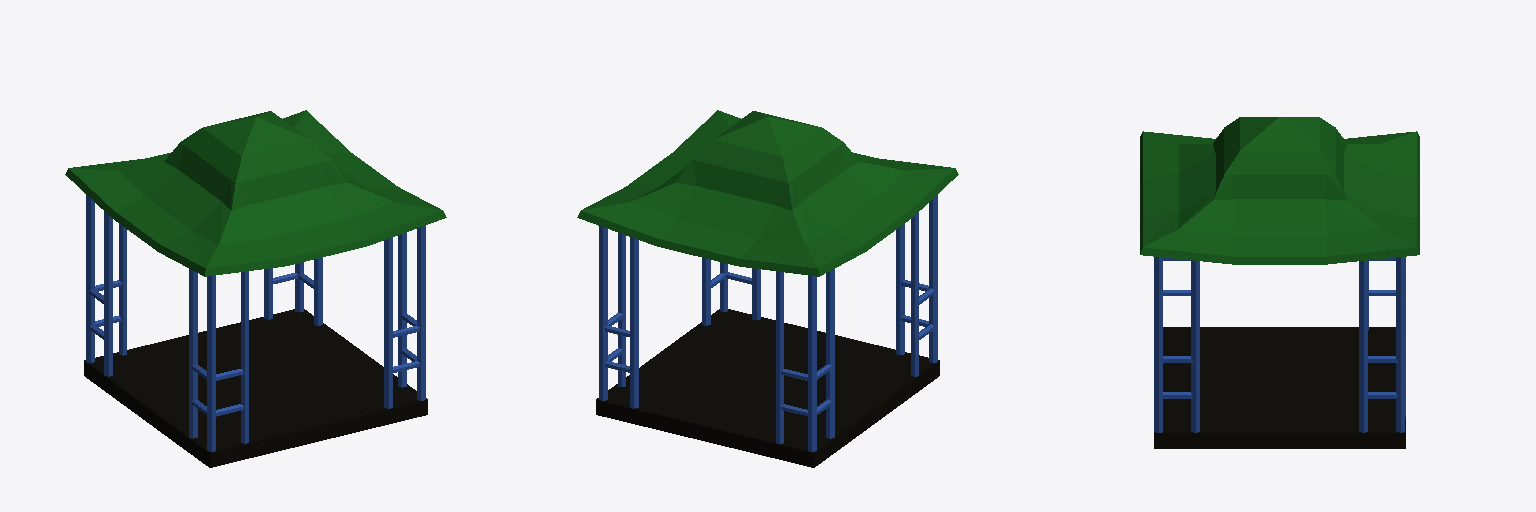
The model's file is Hut_F.obj.
3 views of the same model, side by side, from view 1: azimuth 30°, elevation 25°; view 2: azimuth 150°, elevation 25°; view 3: azimuth 270°, elevation 25° (orthographic).
Parts seen in each view (by area): view 1: Hut_F; view 2: Hut_F; view 3: Hut_F.
Part boxes in pixels (x1,y1,x2,y2): Hut_F: (65,110,446,467); Hut_F: (577,110,958,467); Hut_F: (1140,117,1419,448).
Bounding box in the file's own units: 18.33 × 20.15 × 18.33.